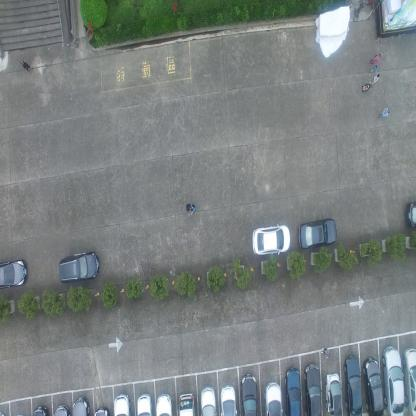car: (382, 346, 404, 416), (58, 251, 100, 284), (363, 356, 384, 416), (297, 218, 337, 249), (251, 223, 290, 254), (343, 354, 362, 416), (304, 362, 322, 415), (0, 257, 28, 291), (402, 348, 416, 415), (284, 367, 302, 415), (240, 372, 258, 416), (324, 372, 342, 416), (263, 380, 282, 415), (200, 384, 218, 416), (220, 382, 236, 415), (178, 391, 196, 416), (136, 391, 154, 416), (113, 392, 132, 415), (156, 392, 173, 416), (72, 396, 90, 415), (406, 200, 416, 229), (53, 402, 71, 415), (32, 404, 52, 415), (94, 405, 111, 415)
